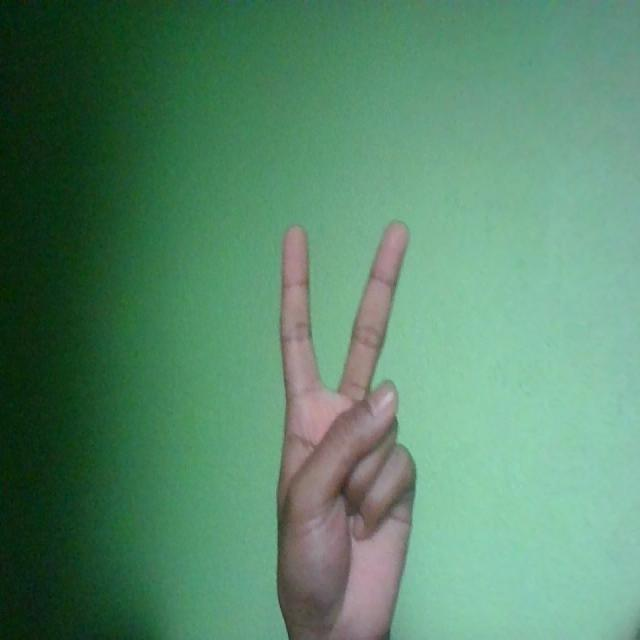Fist: (274, 218, 418, 640)
